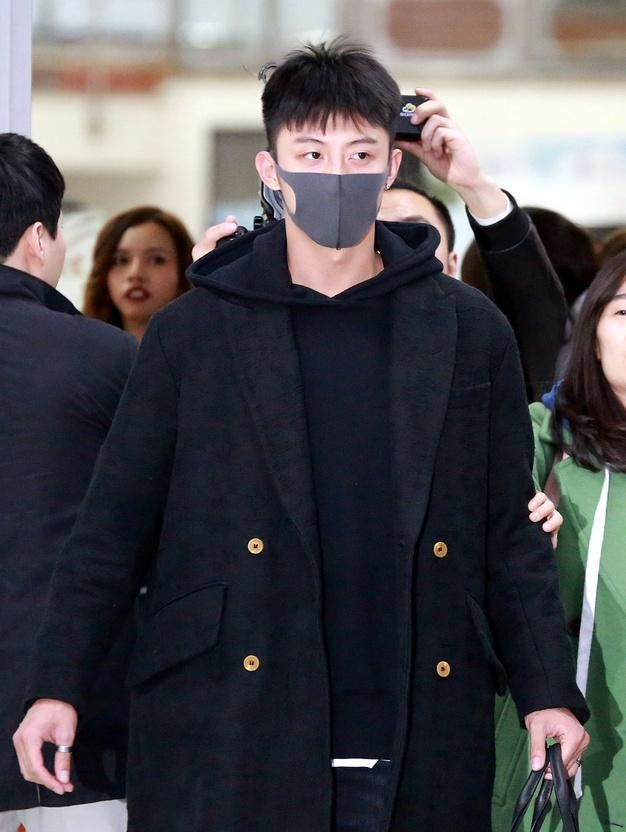face: (108, 223, 174, 319), (599, 280, 626, 391)
face_mask: (276, 85, 388, 254)
